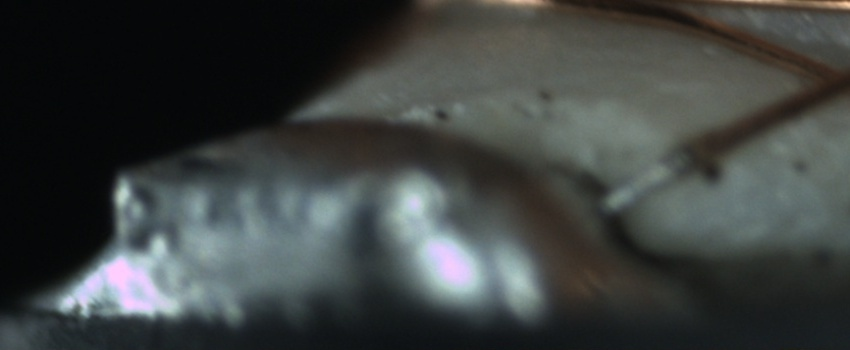CL: (797, 46, 849, 106)
TS: (599, 147, 697, 214)
